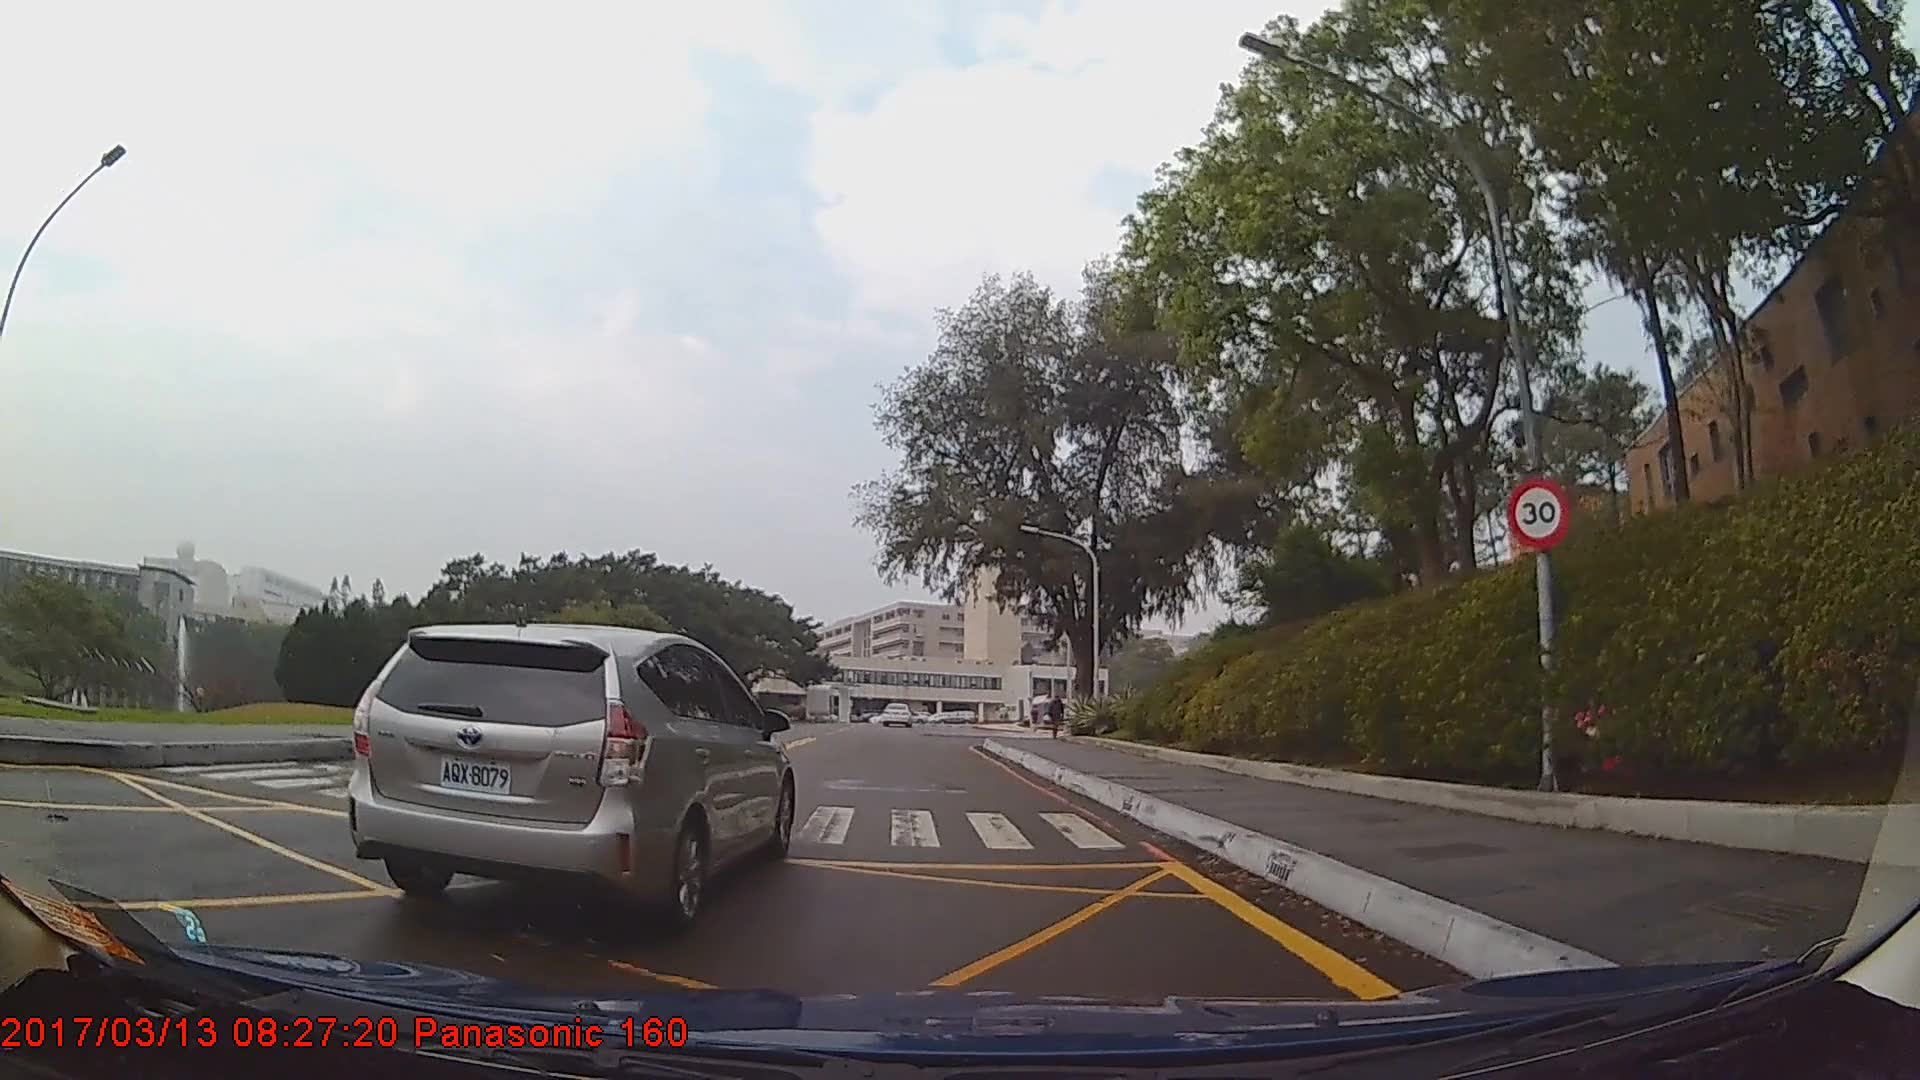pedestrian: (1046, 695, 1068, 742)
vehicle: (344, 619, 794, 925), (880, 699, 909, 726)
